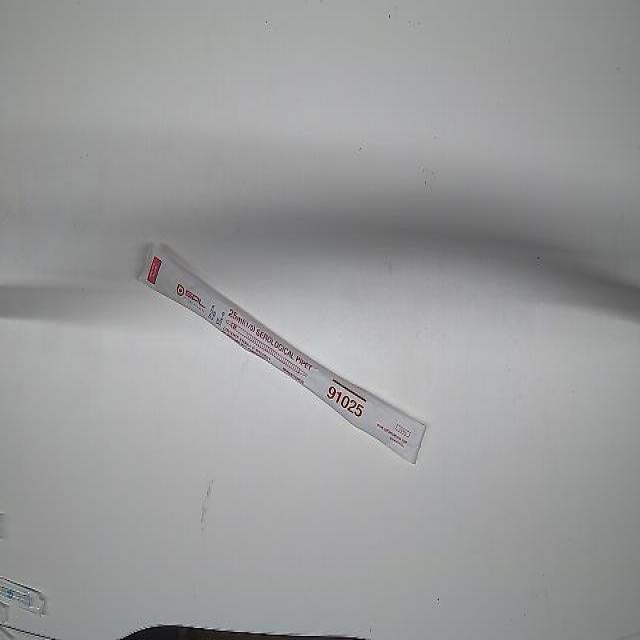Serelogical Pipet 25 mL - Sealed: (138, 243, 426, 466)
